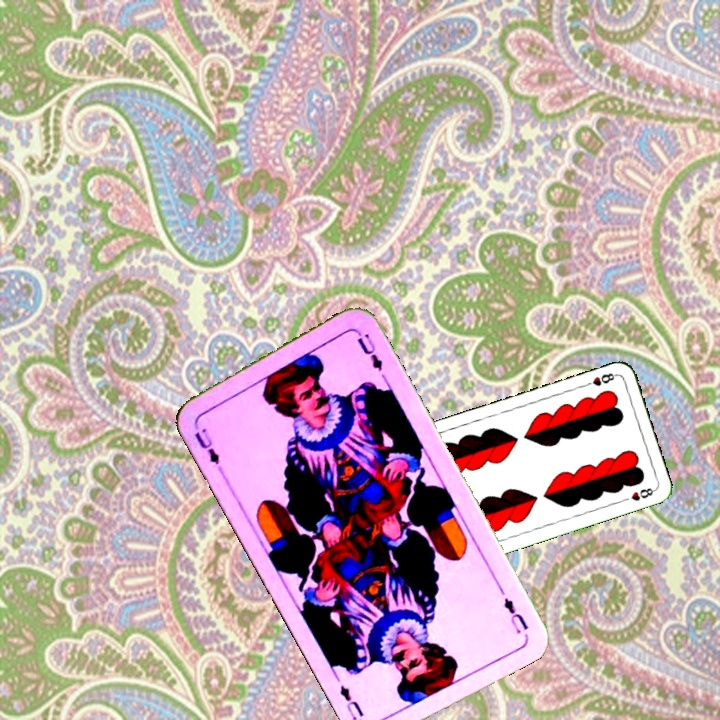EU: (189, 420, 226, 474), (499, 593, 531, 637)
H8: (580, 369, 619, 389)
